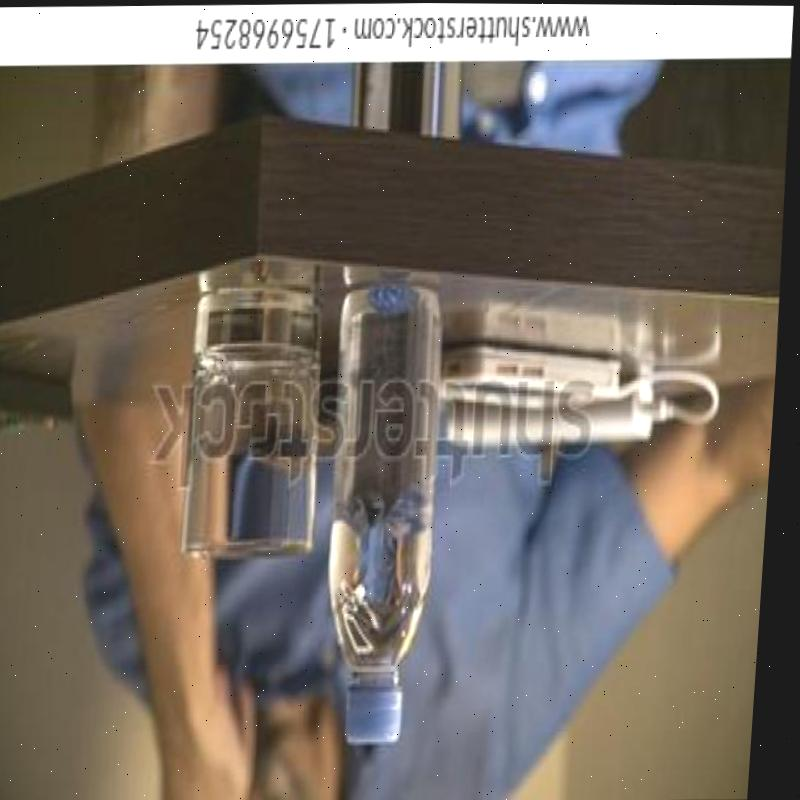botella: (316, 284, 456, 746)
